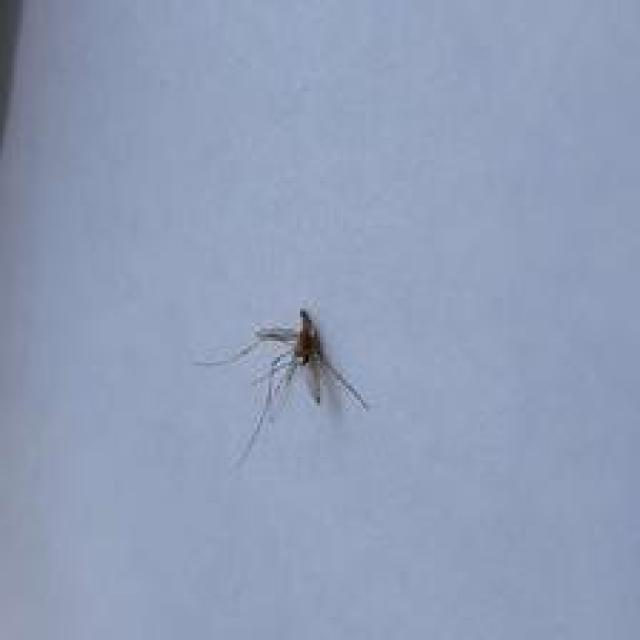Culex: (195, 306, 372, 468)
